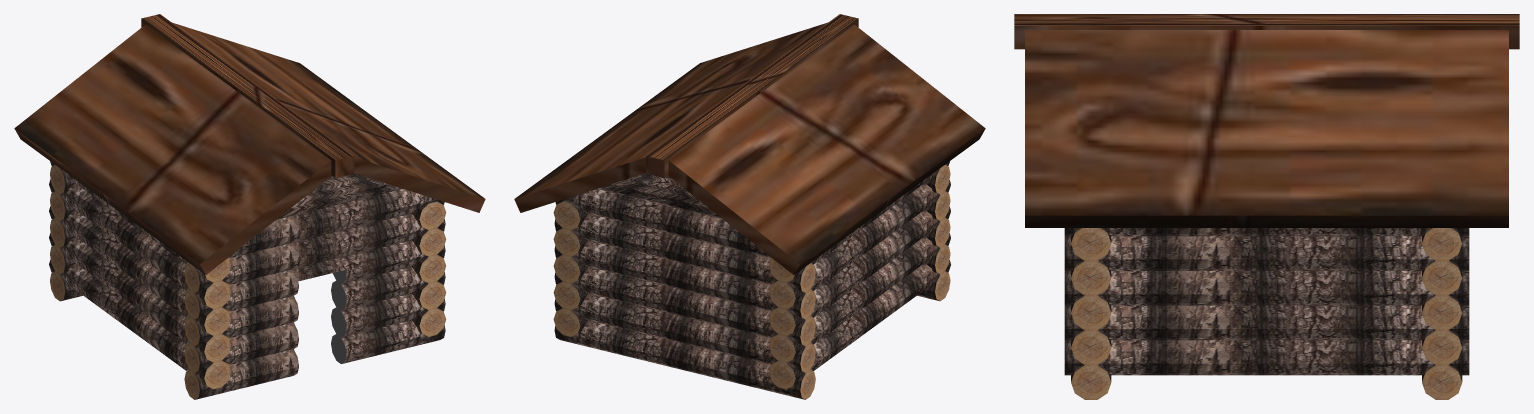
The model's file is RangerCabin.obj.
The picture shows the model from 3 angles, left to right: view 1: azimuth 30°, elevation 25°; view 2: azimuth 150°, elevation 25°; view 3: azimuth 270°, elevation 25°; orthographic projection. The views are drawn at different scales.
Visible parts, largest first — view 1: ffd2Lattice1; view 2: ffd2Lattice1; view 3: ffd2Lattice1.
Part boxes in pixels (x1,y1,x2,y2): ffd2Lattice1: (14,14,485,399); ffd2Lattice1: (514,14,985,399); ffd2Lattice1: (1014,14,1519,399).
Size of the model in its own units: 21.24 by 16.46 by 24.97.
